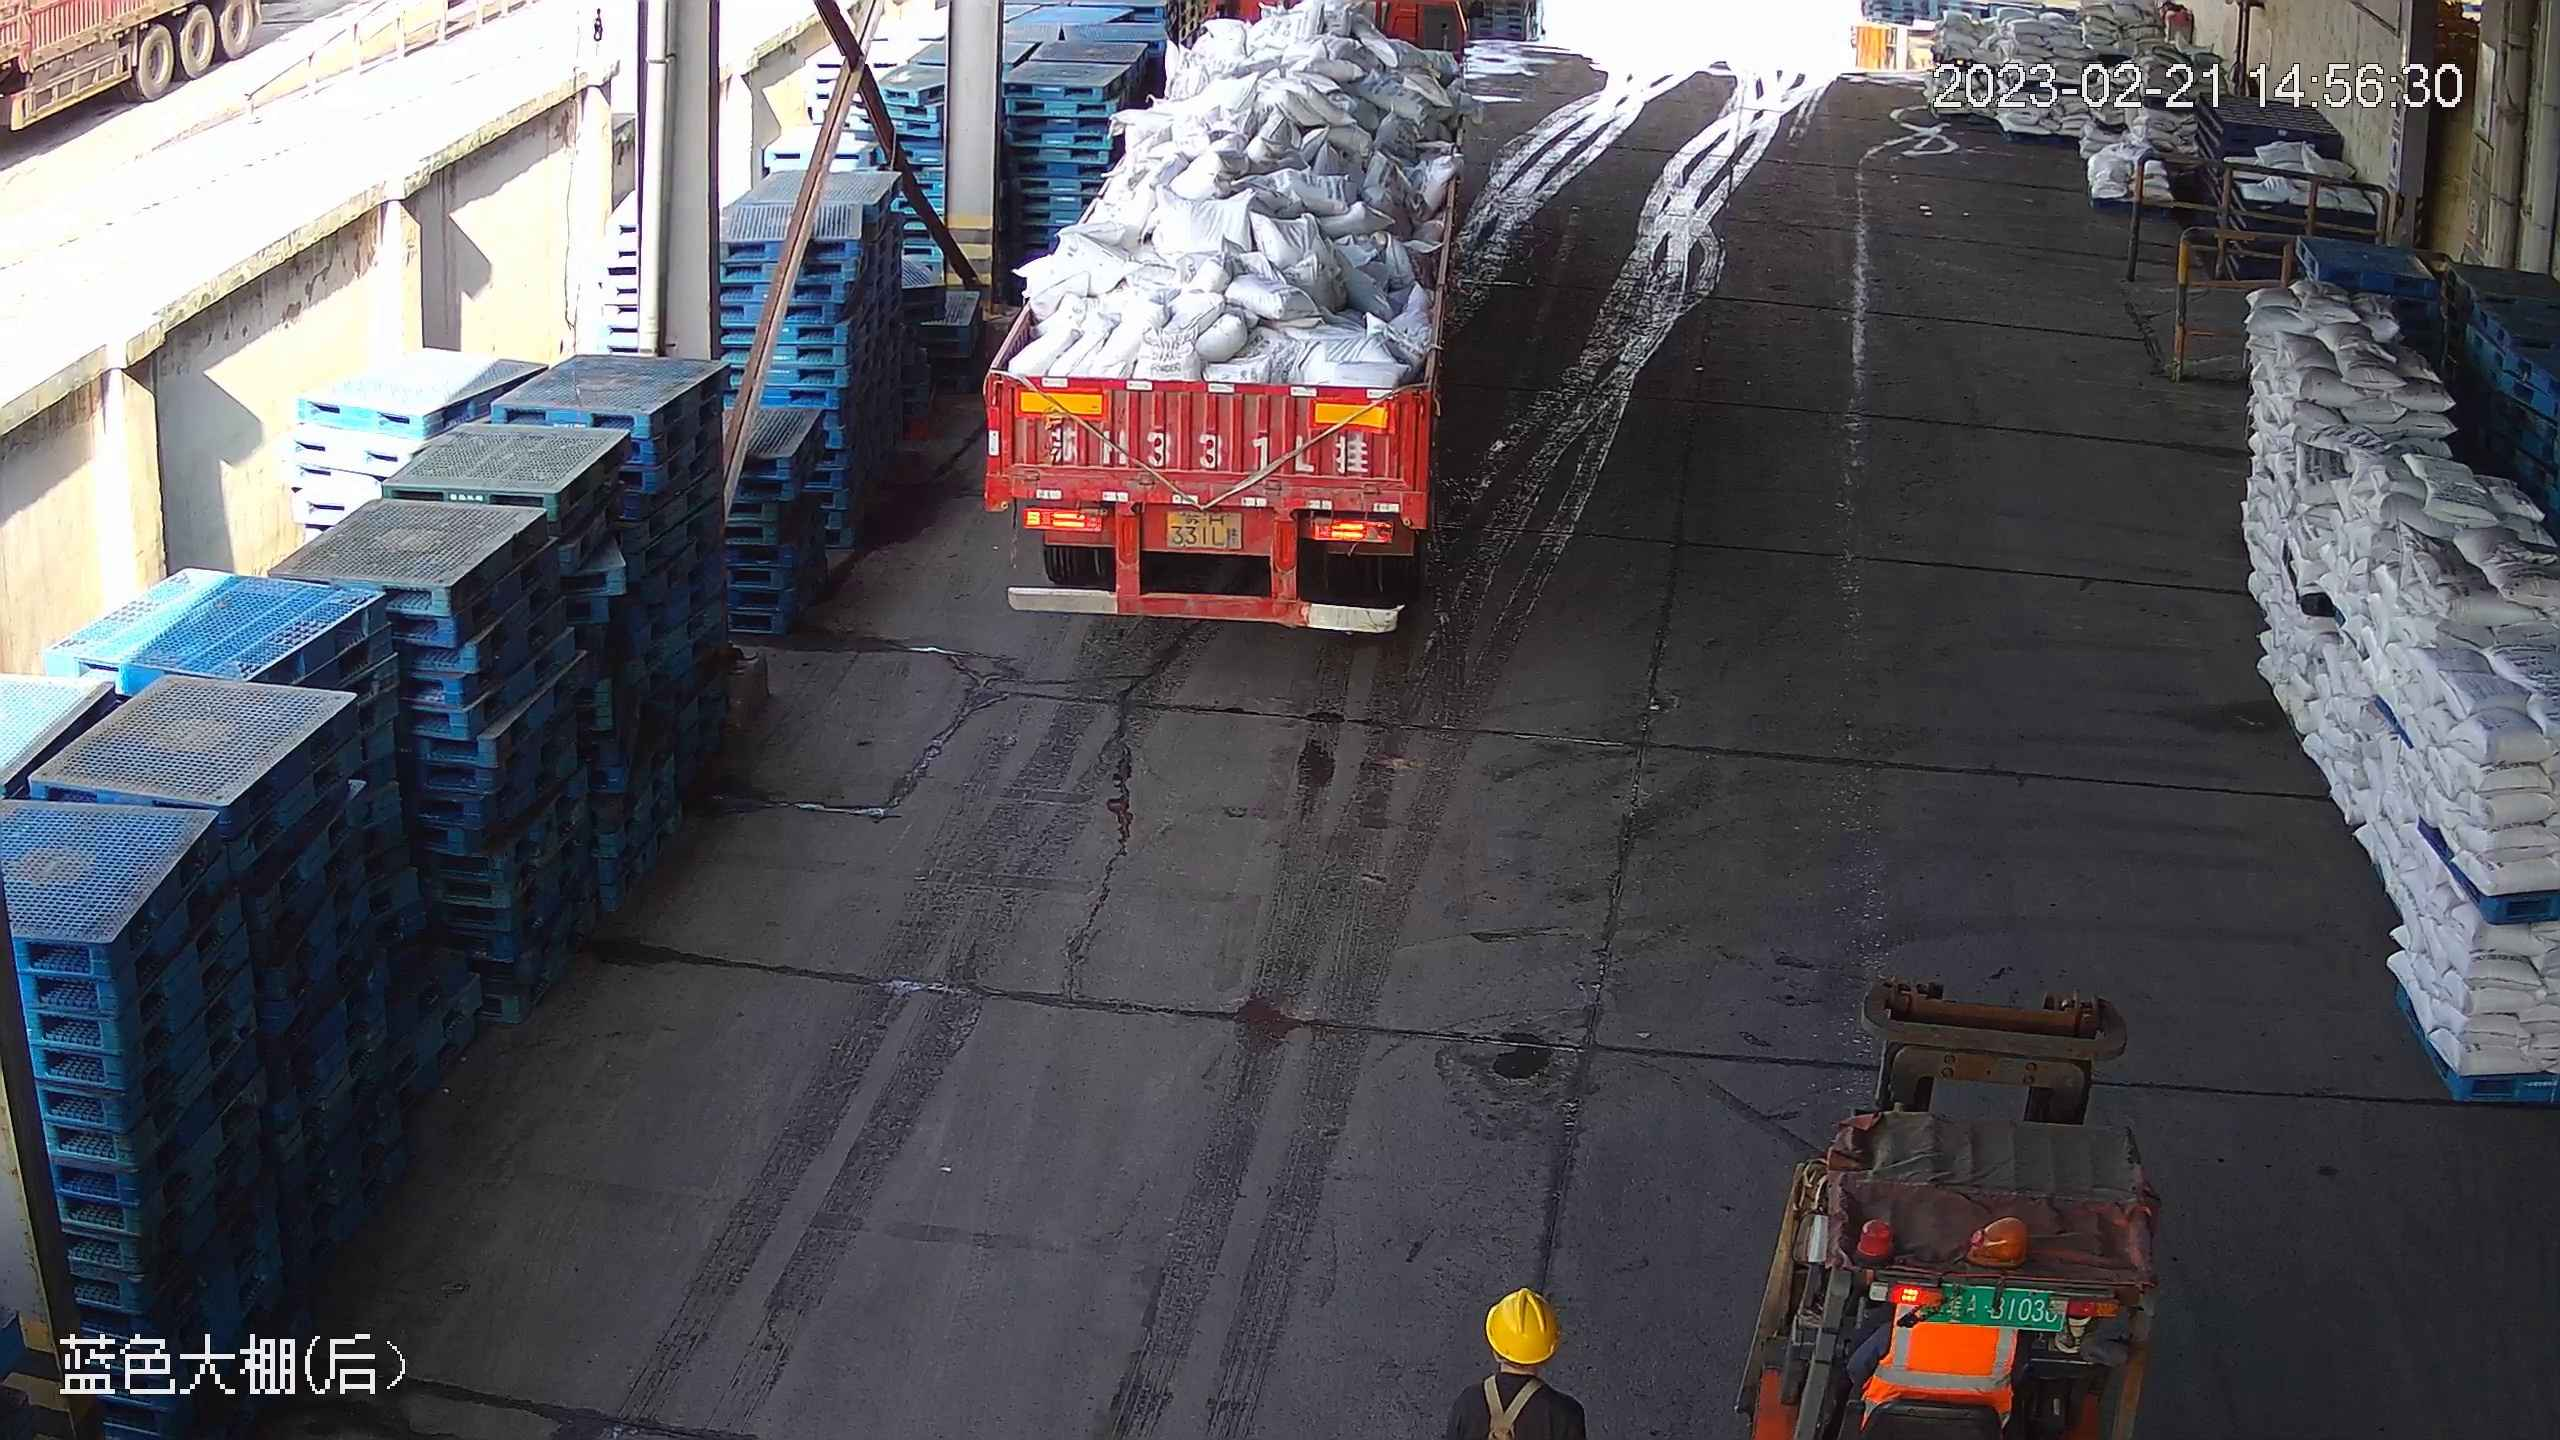belt: (1475, 1375, 1550, 1438)
head: (1438, 1279, 1595, 1440)
helmet: (1477, 1287, 1561, 1363)
truck: (975, 1, 1479, 651)
